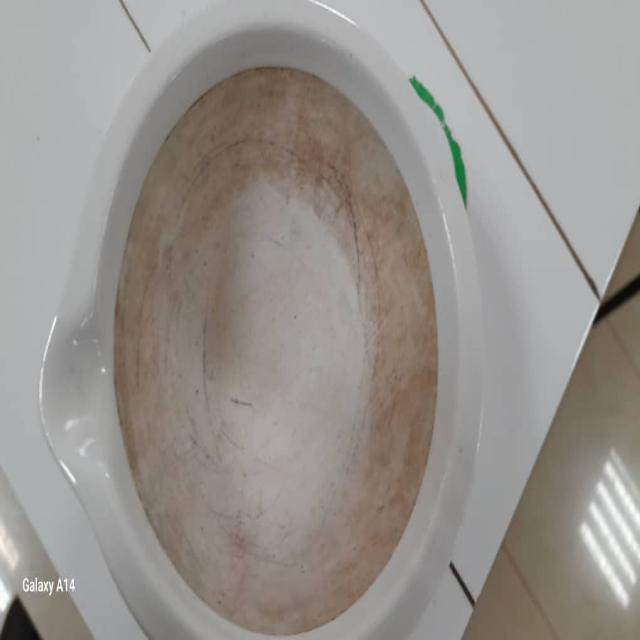Mortar and Pestle: (39, 18, 482, 635)
